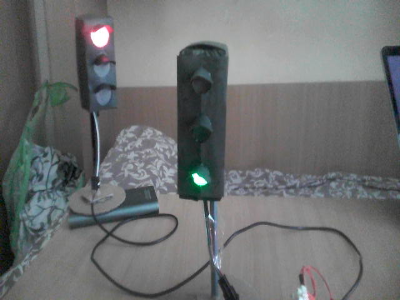trafficlight_green: (178, 52, 225, 196)
trafficlight_red: (84, 18, 117, 109)
